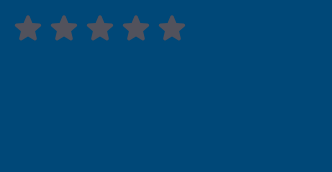
Test case: StarRating › should update displayed rating on hover
Hover over the button named "Rate 3 stars" at (108, 28), box top-left (100, 12), bottom-right (116, 44)
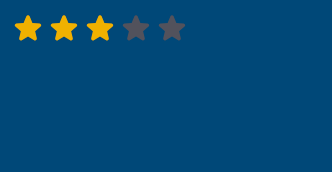
Expected: the number of elements with class "overflow-hidden" is 3, top-left (12, 12), bottom-right (44, 44); top-left (48, 12), bottom-right (80, 44); top-left (84, 12), bottom-right (116, 44)
